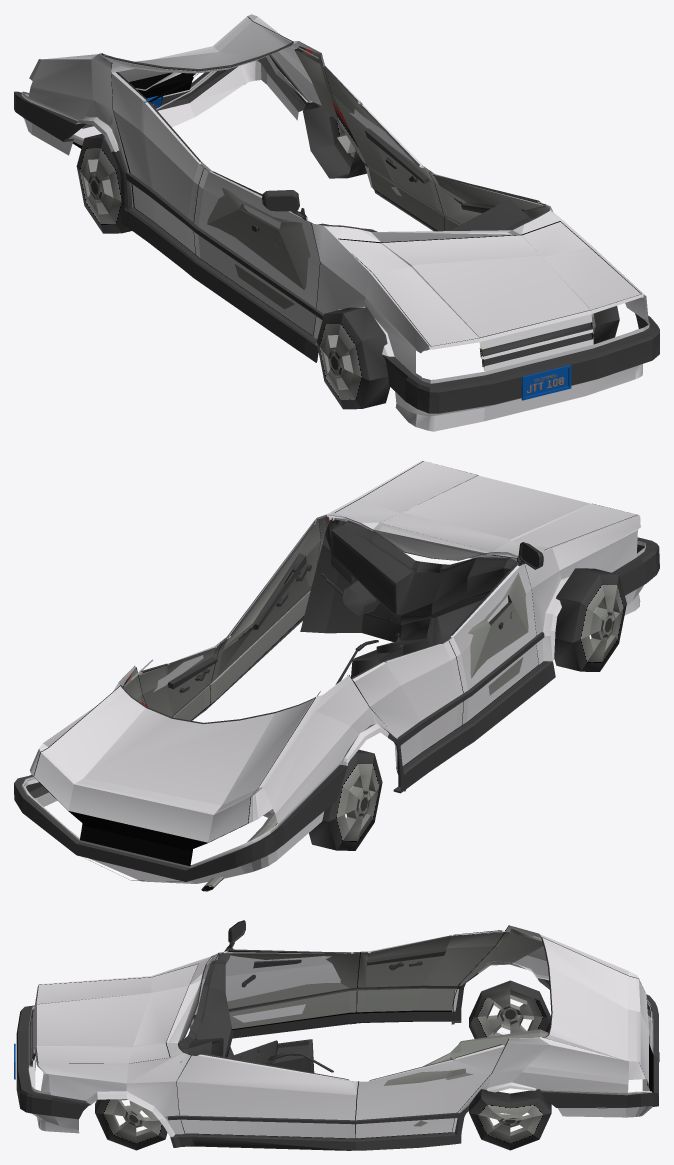
File: Car_4.fbx
3 renders of one model, top to bottom at view 1: azimuth 30°, elevation 25°; view 2: azimuth 150°, elevation 25°; view 3: azimuth 270°, elevation 25°, orthographic. The views are drawn at different scales.
Visible parts, largest first — view 1: Car_4; view 2: Car_4; view 3: Car_4.
Boxes of the visible parts, x1,y1,x2,y2 form: Car_4: [14, 14, 659, 431]; Car_4: [14, 460, 659, 891]; Car_4: [14, 920, 659, 1150].
Size of the model in its own units: 167 by 98.04 by 432.
1 material, 1 textured.
